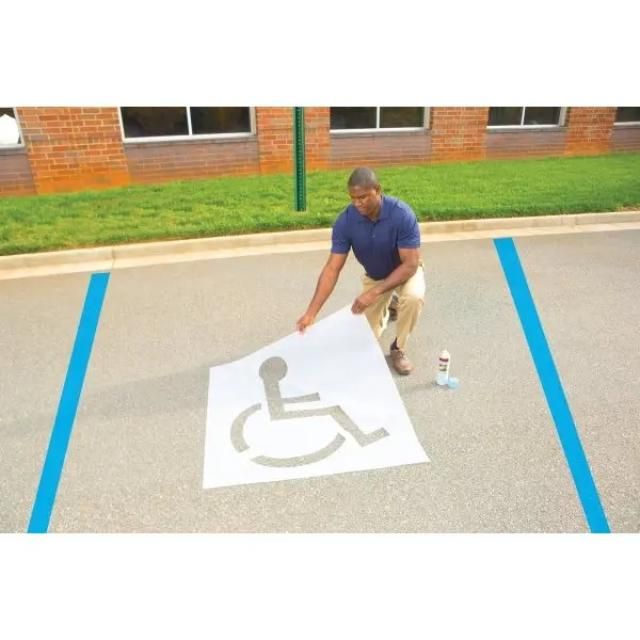car-handicap-placard: (228, 350, 393, 478)
